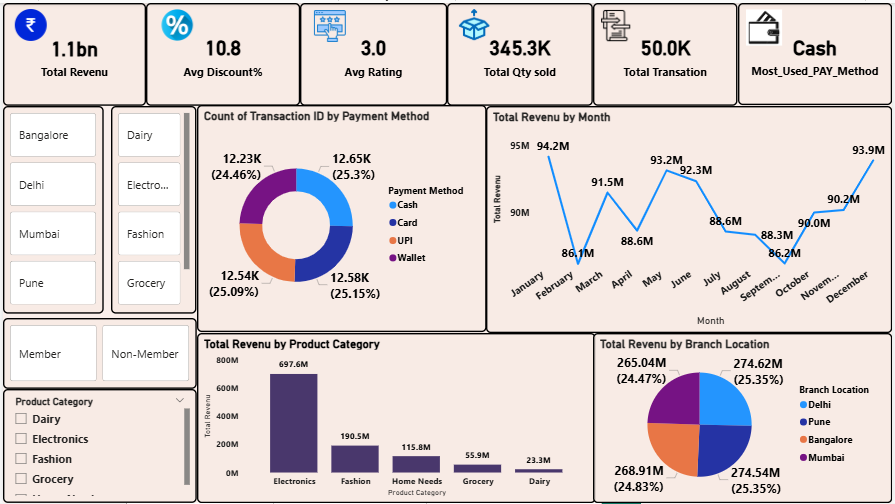

The page's visual inventory and layout, read from the dashboard file:
{"tool":"powerbi","page":{"name":"Business Overviews","canvas":[1280,720],"ordinal":0},"visuals":[{"type":"card","fields":{"Values":["dmart_data.Total Transation"]},"box":[850,0,208.3,147.8],"z":0},{"type":"card","fields":{"Values":["dmart_data.Avg Discount%"]},"box":[206.6,0,221.7,147.8],"z":1000},{"type":"card","fields":{"Values":["dmart_data.Avg Rating"]},"box":[428.3,0,211.7,147.8],"z":2000},{"type":"card","fields":{"Values":["dmart_data.Total Qty sold"]},"box":[640,0,210,147.8],"z":3000},{"type":"card","fields":{"Values":["dmart_data.Total Revenu"]},"box":[0,0,205.9,148.3],"z":4000},{"type":"card","fields":{"Values":["dmart_data.Most_Used_PAY_Method"]},"box":[1058.4,0,221.6,147.2],"z":5000},{"type":"clusteredColumnChart","fields":{"Y":["dmart_data.Total Revenu"],"Category":["dmart_data.Product Category"]},"box":[278.9,475.5,573.9,244.9],"z":6000},{"type":"lineChart","fields":{"Category":["dmart_data.Date.Variation.Date Hierarchy.Month"],"Y":["dmart_data.Total Revenu"]},"box":[695.4,148.4,584.6,327.2],"z":7000},{"type":"pieChart","fields":{"Category":["dmart_data.Branch Location"],"Y":["dmart_data.Total Revenu"]},"box":[849.2,475.5,430.8,244.9],"z":8000},{"type":"donutChart","fields":{"Y":["CountNonNull(dmart_data.Transaction ID)"],"Category":["dmart_data.Payment Method"]},"box":[278.9,146.6,416.5,327.2],"z":9000},{"type":"image","box":[0,8.6,79.2,46.1],"z":10000},{"type":"image","box":[205.9,8.6,90.7,46.1],"z":11000},{"type":"image","box":[406.1,8.6,128.2,49],"z":12000},{"type":"image","box":[859.7,0,44.6,64.8],"z":13000},{"type":"image","box":[625,7.2,106.6,47.5],"z":14000},{"type":"image","box":[1069.9,4.3,51.8,61.9],"z":15000},{"type":"advancedSlicerVisual","fields":{"Values":["dmart_data.Branch Location"]},"box":[0,148.4,144.8,298.5],"z":16000},{"type":"advancedSlicerVisual","fields":{"Values":["dmart_data.Product Category"]},"box":[155.5,148.4,123.4,298.5],"z":17000},{"type":"advancedSlicerVisual","fields":{"Values":["dmart_data.Customer Type"]},"box":[0,454.1,278.9,101.9],"z":18000},{"type":"slicer","fields":{"Values":["dmart_data.Product Category"]},"box":[0,556,278.9,164.5],"z":19000}]}

Visuals, with their boxes in screenshot pixels (x1, y1, x2, y2), scaled from the page's 1280x720 canvas onto the 895x504 screenshot:
card - dmart_data.Total Transation: [left=594, top=0, right=740, bottom=103]
card - dmart_data.Avg Discount%: [left=144, top=0, right=299, bottom=103]
card - dmart_data.Avg Rating: [left=299, top=0, right=448, bottom=103]
card - dmart_data.Total Qty sold: [left=448, top=0, right=594, bottom=103]
card - dmart_data.Total Revenu: [left=0, top=0, right=144, bottom=104]
card - dmart_data.Most_Used_PAY_Method: [left=740, top=0, right=894, bottom=103]
clusteredColumnChart - dmart_data.Total Revenu x dmart_data.Product Category: [left=195, top=333, right=596, bottom=503]
lineChart - dmart_data.Date.Variation.Date Hierarchy.Month x dmart_data.Total Revenu: [left=486, top=104, right=894, bottom=333]
pieChart - dmart_data.Branch Location x dmart_data.Total Revenu: [left=594, top=333, right=894, bottom=503]
donutChart - CountNonNull(dmart_data.Transaction ID) x dmart_data.Payment Method: [left=195, top=103, right=486, bottom=332]
image: [left=0, top=6, right=55, bottom=38]
image: [left=144, top=6, right=207, bottom=38]
image: [left=284, top=6, right=374, bottom=40]
image: [left=601, top=0, right=632, bottom=45]
image: [left=437, top=5, right=512, bottom=38]
image: [left=748, top=3, right=784, bottom=46]
advancedSlicerVisual - dmart_data.Branch Location: [left=0, top=104, right=101, bottom=313]
advancedSlicerVisual - dmart_data.Product Category: [left=109, top=104, right=195, bottom=313]
advancedSlicerVisual - dmart_data.Customer Type: [left=0, top=318, right=195, bottom=389]
slicer - dmart_data.Product Category: [left=0, top=389, right=195, bottom=503]
